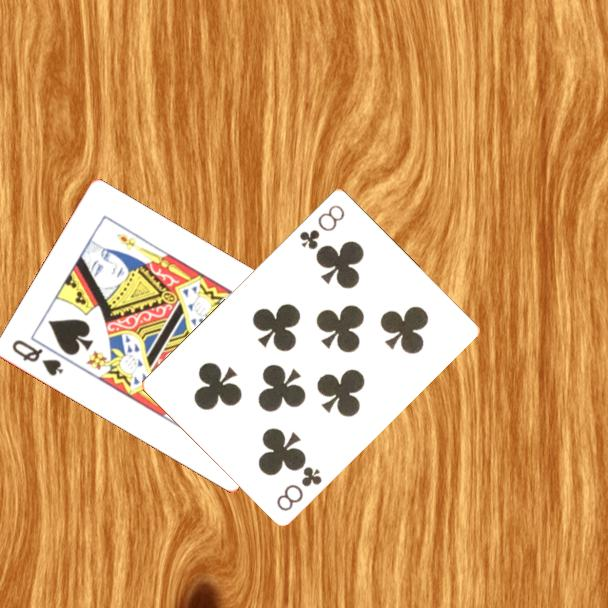c08: (296, 201, 348, 252), (273, 462, 325, 513)
s12: (8, 336, 66, 379)
